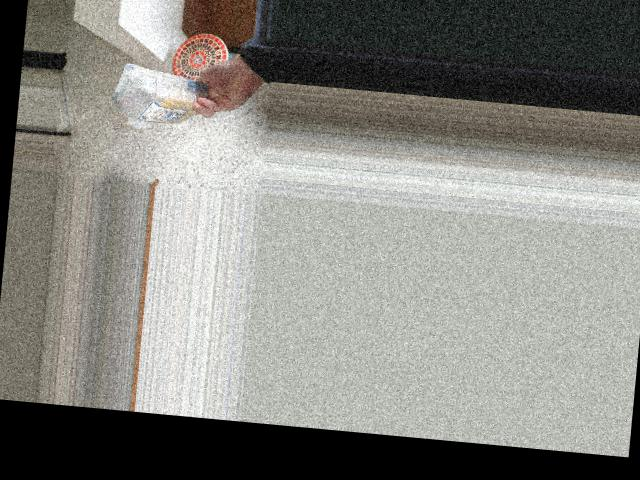cheese: (109, 66, 207, 127)
